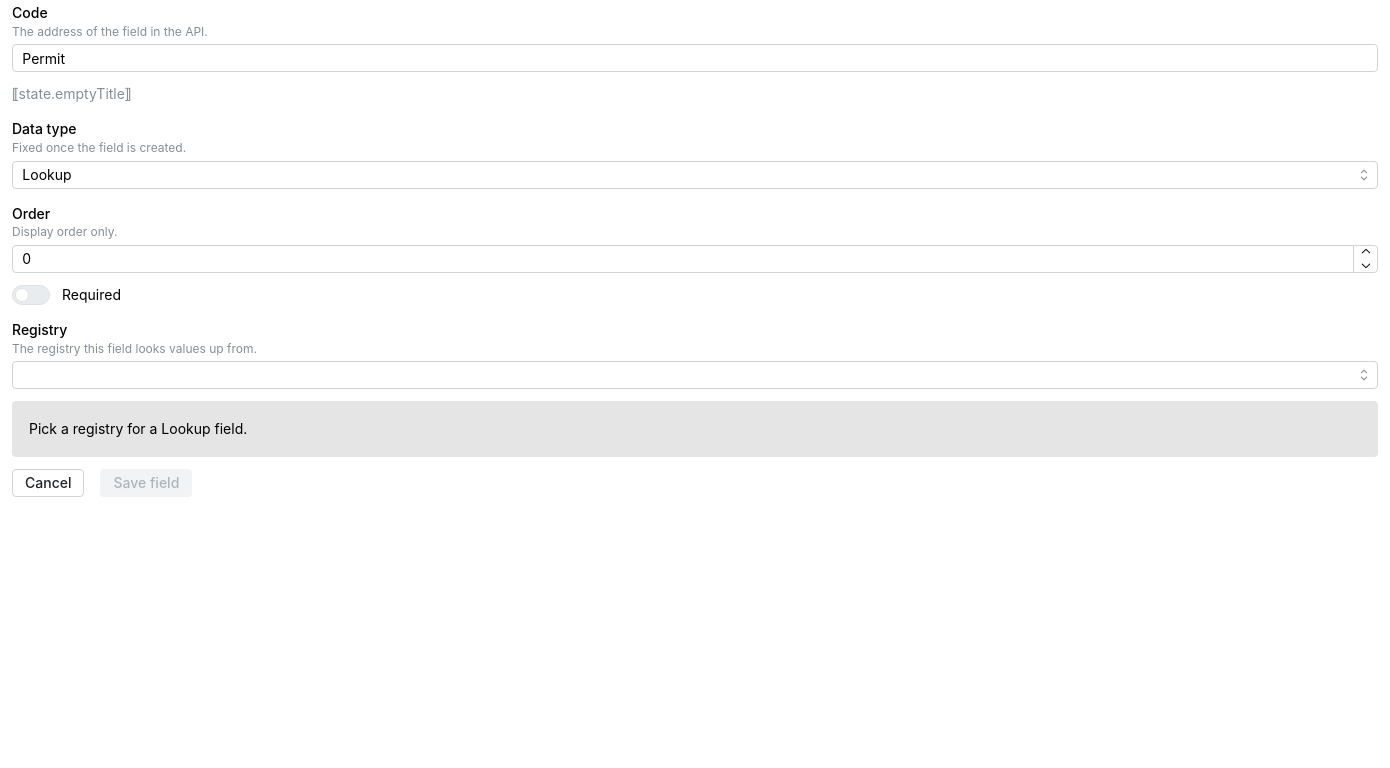
Test case: HeaderFieldEditor: вибір довідника лише для типу Lookup › опція групи двохрядкова: назва і приглушений опис; у звичайної цілі опису немає
This screenshot has width=1390, height=768.
Click the field labelled "Registry": (695, 375) [12, 361, 1378, 389]
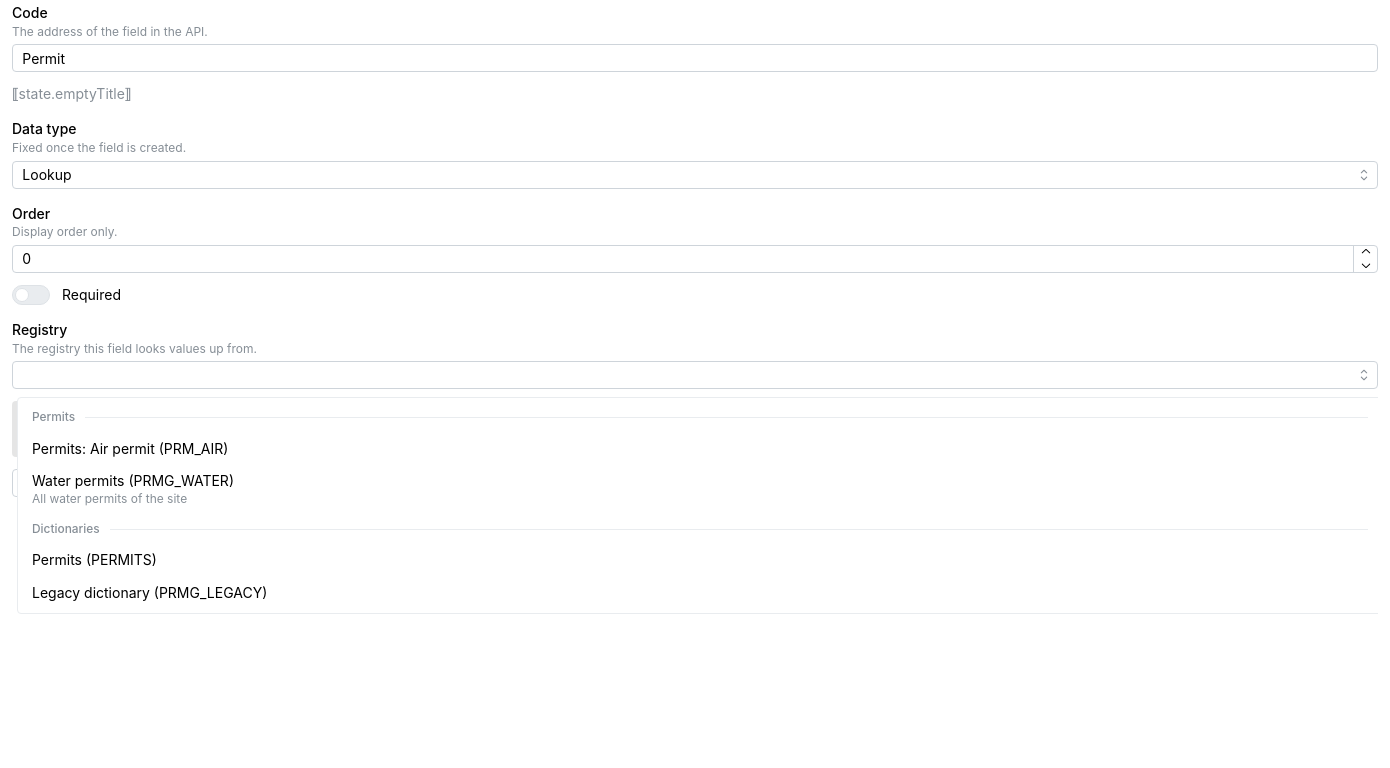
Result: the text "All water permits of the site" is shown at [32, 491, 187, 506]
